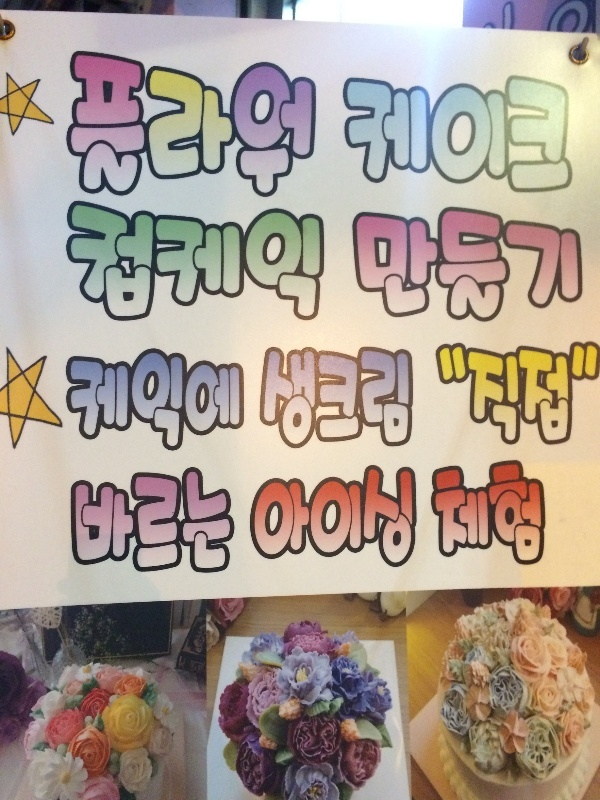text: (81, 47, 96, 199), (97, 47, 112, 199), (113, 47, 128, 199), (129, 47, 144, 199), (145, 47, 160, 199), (161, 47, 176, 199), (177, 47, 192, 199), (193, 47, 208, 199), (209, 47, 224, 199), (225, 47, 240, 199), (241, 47, 256, 199), (257, 47, 272, 199), (273, 47, 288, 199), (289, 47, 304, 199), (81, 200, 96, 322), (97, 200, 112, 322), (113, 200, 128, 322), (129, 200, 144, 322), (145, 200, 160, 322), (161, 200, 176, 322), (177, 200, 192, 322), (193, 200, 208, 322), (209, 200, 224, 322), (225, 200, 240, 322), (241, 200, 256, 322), (257, 200, 272, 322), (273, 200, 288, 322), (289, 200, 304, 322), (305, 200, 320, 322), (305, 47, 317, 199), (353, 75, 368, 195), (369, 75, 384, 195), (385, 75, 400, 195), (401, 75, 416, 195), (417, 75, 432, 195), (433, 75, 448, 195), (449, 75, 464, 195), (465, 75, 480, 195), (481, 75, 496, 195), (497, 75, 512, 195), (513, 75, 528, 195), (529, 75, 544, 195), (545, 75, 560, 195), (353, 207, 368, 322), (369, 207, 384, 322), (385, 207, 400, 322), (401, 207, 416, 322), (417, 207, 432, 322), (433, 207, 448, 322), (449, 207, 464, 322), (465, 207, 480, 322), (481, 207, 496, 322), (497, 207, 512, 322), (513, 207, 528, 322), (529, 207, 544, 322), (545, 207, 560, 322), (561, 207, 576, 322), (257, 460, 272, 570), (273, 460, 288, 570), (289, 460, 304, 570), (305, 460, 320, 570), (321, 460, 336, 570), (337, 460, 352, 570), (353, 460, 368, 570), (369, 460, 384, 570), (385, 460, 400, 570), (433, 457, 448, 567), (449, 457, 464, 567), (465, 457, 480, 567), (481, 457, 496, 567), (497, 457, 512, 567), (513, 457, 528, 567), (529, 457, 544, 567), (449, 339, 464, 448), (465, 339, 480, 448), (481, 339, 496, 448), (497, 339, 512, 448), (513, 339, 528, 448), (529, 339, 544, 448), (545, 339, 560, 448), (561, 339, 576, 448), (577, 339, 592, 448), (225, 351, 241, 452), (81, 467, 96, 573), (97, 467, 112, 573), (113, 467, 128, 573), (129, 467, 144, 573), (145, 467, 160, 573), (161, 467, 176, 573), (177, 467, 192, 573), (193, 467, 208, 573), (209, 467, 224, 573), (273, 346, 288, 451), (289, 346, 304, 451), (305, 346, 320, 451), (321, 346, 336, 451), (337, 346, 352, 451), (353, 346, 368, 451), (369, 346, 384, 451), (385, 346, 400, 451), (401, 460, 415, 570), (434, 339, 448, 448), (70, 47, 80, 199), (81, 351, 96, 452), (97, 351, 112, 452), (113, 351, 128, 452), (129, 351, 144, 452), (145, 351, 160, 452), (161, 351, 176, 452), (177, 351, 192, 452), (193, 351, 208, 452), (209, 351, 224, 452), (68, 200, 80, 322), (67, 351, 80, 452), (401, 346, 413, 451), (342, 75, 352, 195), (561, 75, 570, 195), (71, 467, 80, 573), (263, 346, 272, 451), (577, 207, 583, 322), (593, 339, 599, 448), (225, 467, 231, 573), (253, 460, 256, 570), (321, 200, 322, 322), (351, 207, 352, 322), (431, 457, 432, 567)
